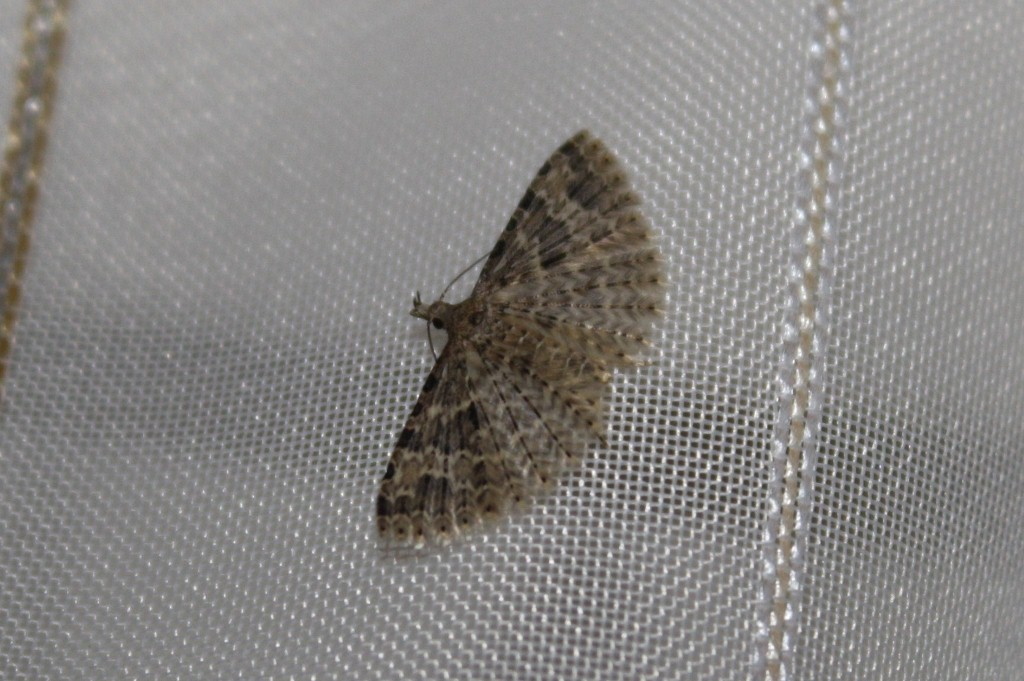Alucitidae: (351, 126, 690, 567)
moth: (349, 124, 688, 565)
